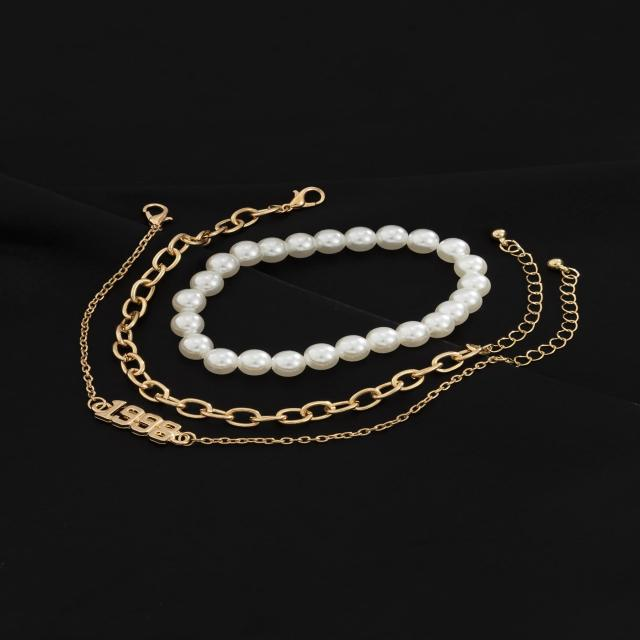bracelet: (41, 161, 640, 541)
